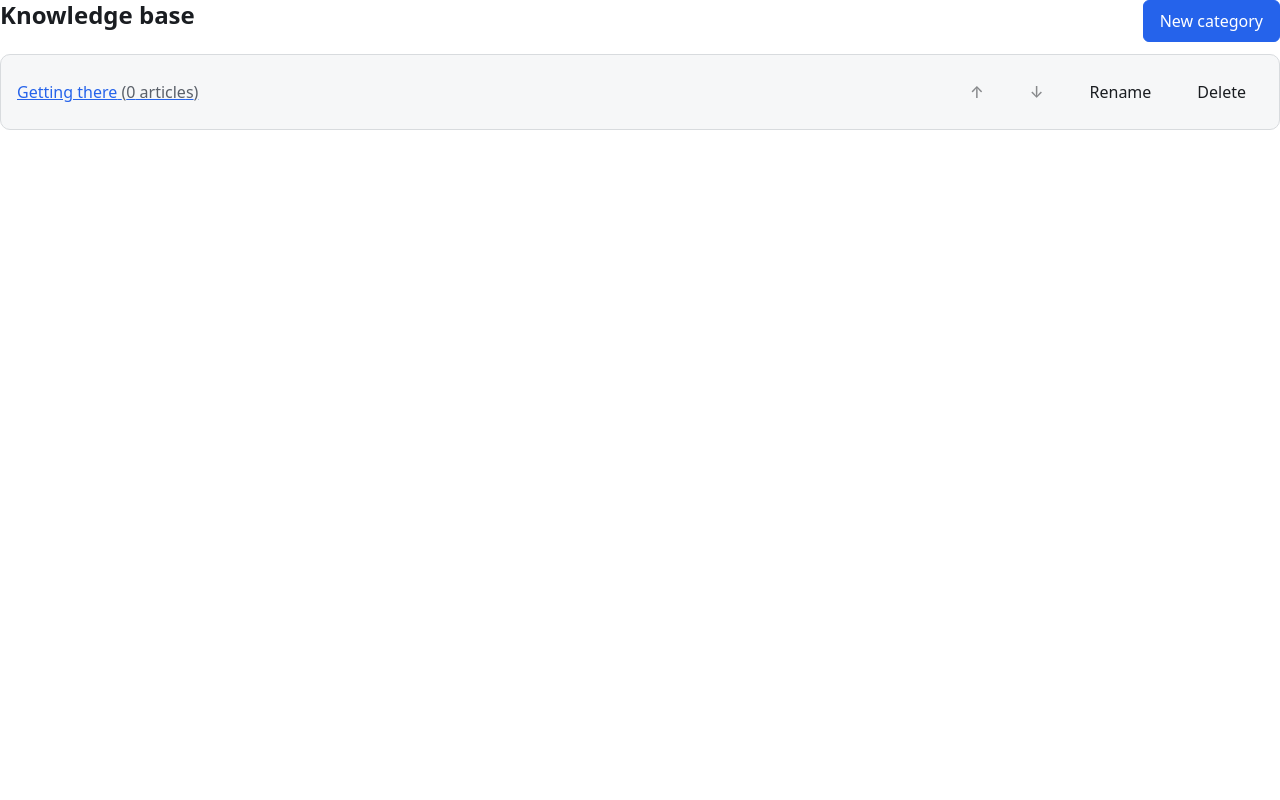
Scenario: CategoriesPage › renders the CATEGORY_NOT_EMPTY message when delete is refused
Check: the link "Getting there (0 articles)" is shown, box [17,80,198,104]
What coordinates should you click on to do the following:
click the button "Delete"
I would click on:
 (1222, 92)
Its box is [1180,71,1263,113].
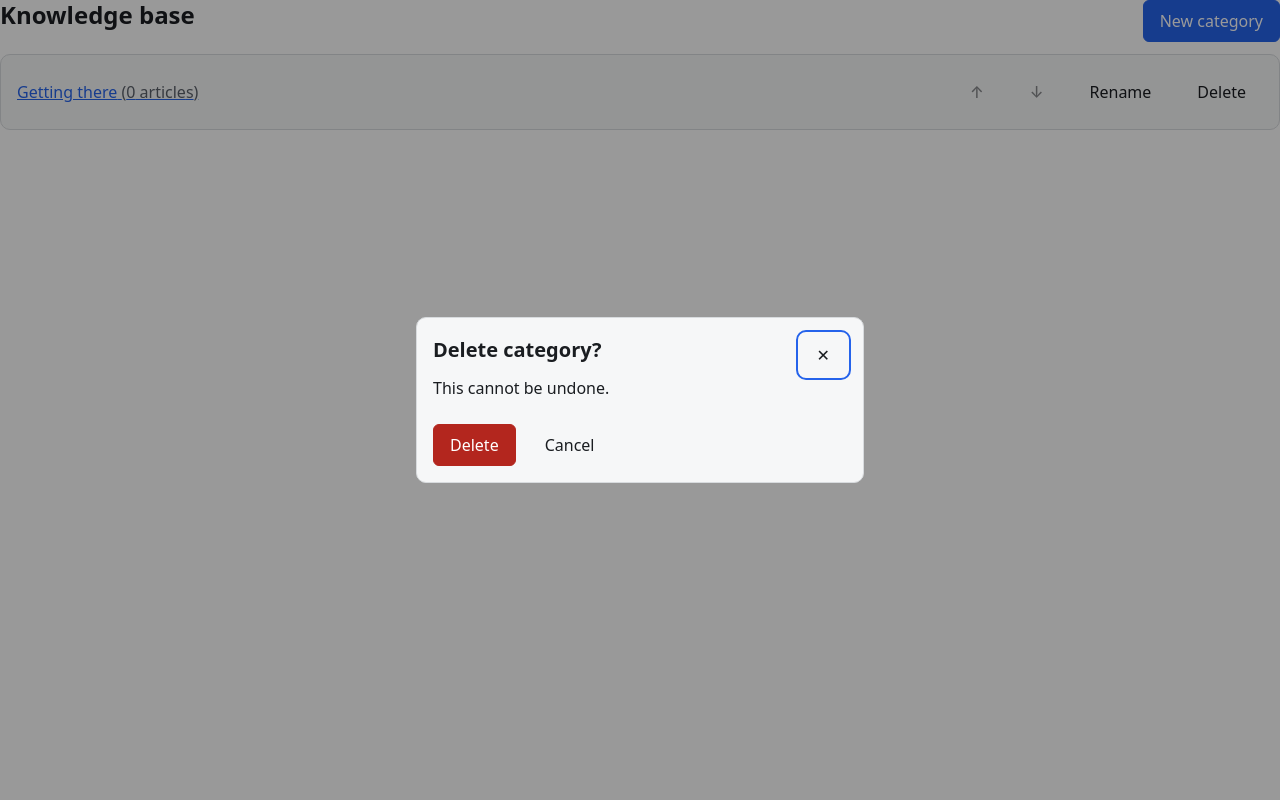
What coordinates should you click on to do the following:
click the button "Delete"
I would click on:
 (474, 445)
Its box is [433,424,516,466].
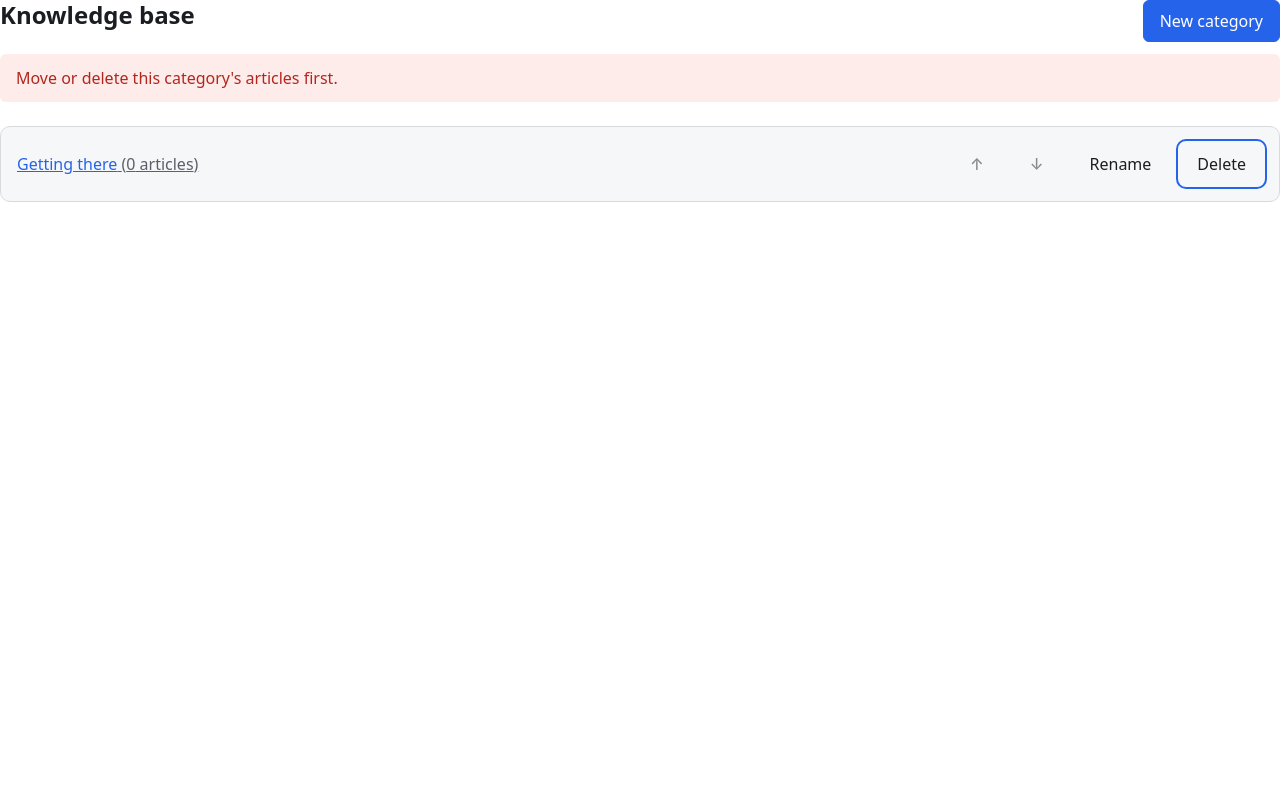
Check: the text "Move or delete this category's articles first." is shown, box [0,54,1279,102]
